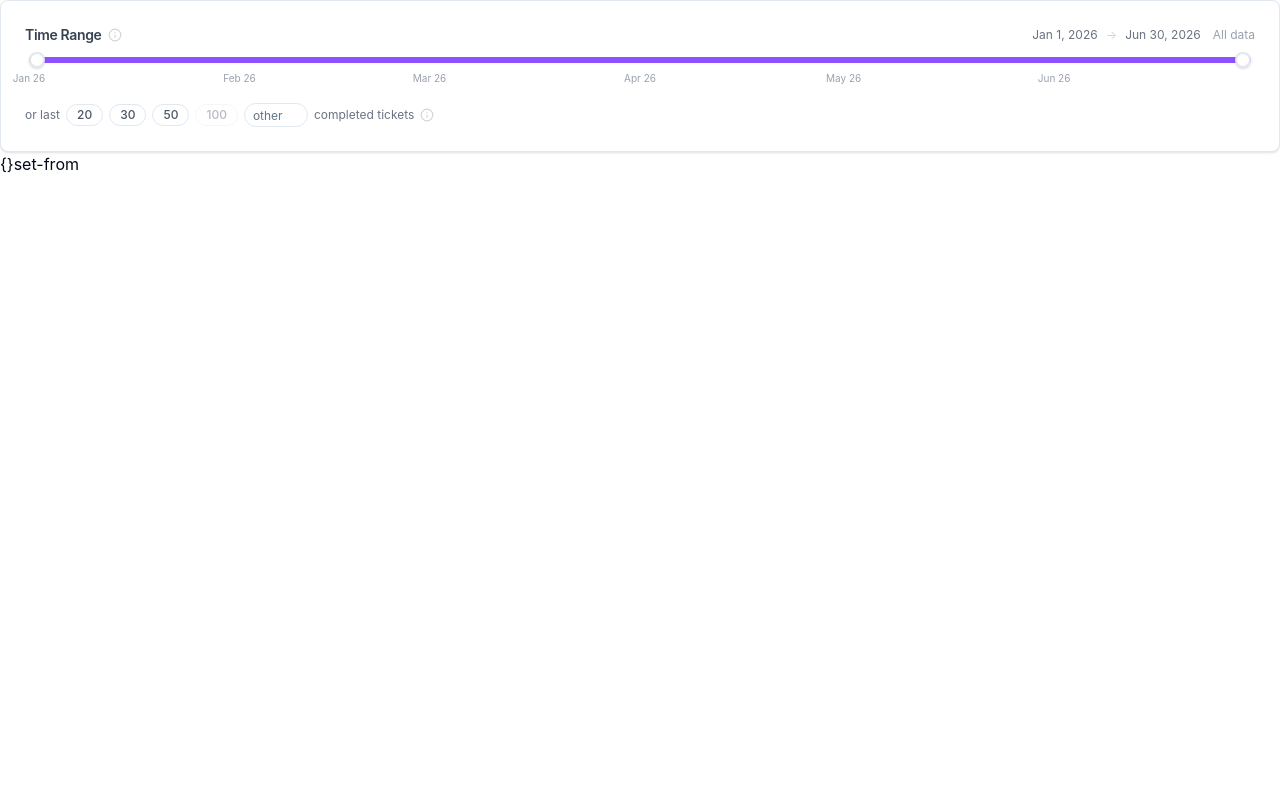
Test: DateRangeSlider — last N tickets › the info icon explains the feature
Click the button named "Last N Tickets".
click(427, 115)  # box [420, 108, 434, 122]
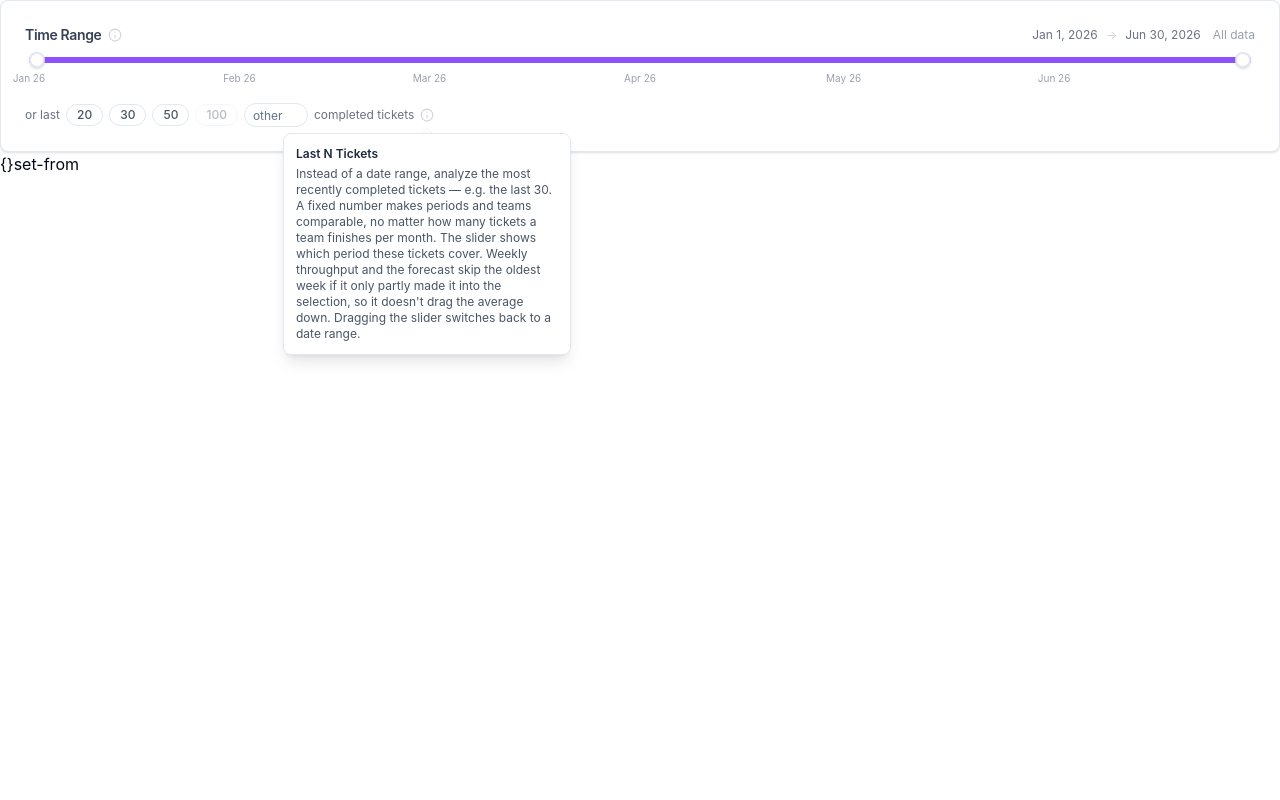
Result: the text "most recently completed tickets" is shown at [296, 166, 552, 341]
